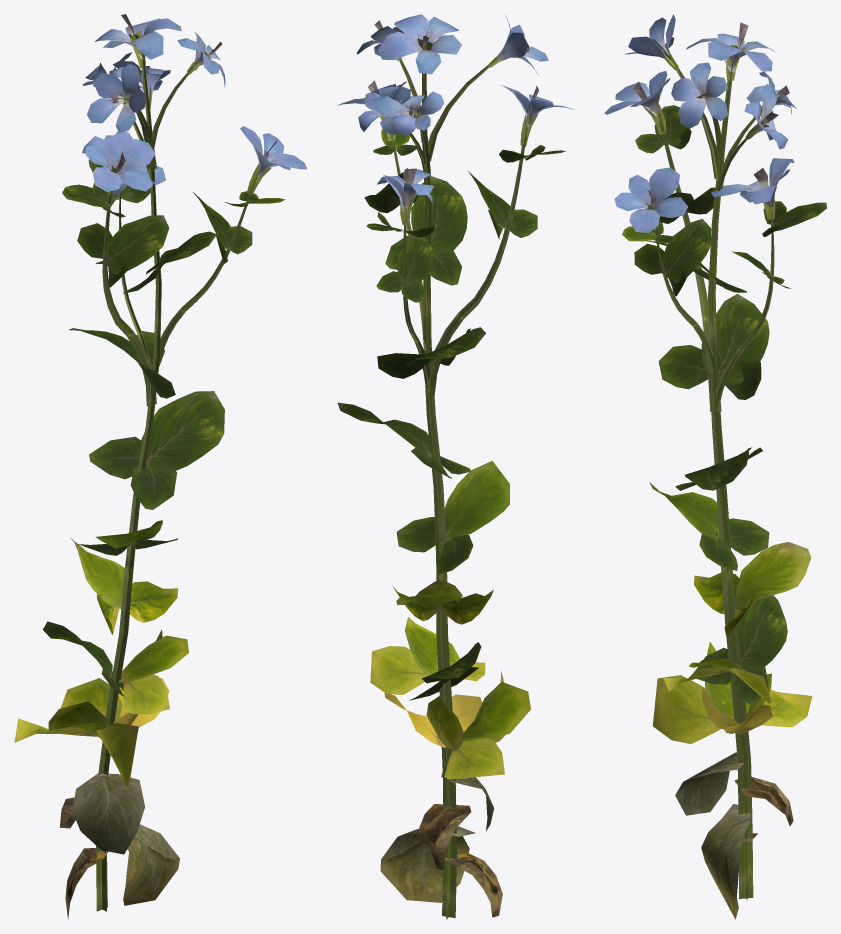
Rendered from Periwinkle_bush_normal_lightblue.glb.
The picture shows the model from 3 angles, left to right: view 1: azimuth 30°, elevation 25°; view 2: azimuth 150°, elevation 25°; view 3: azimuth 270°, elevation 25°; orthographic projection.
Visible parts, largest first — view 1: _b868_Var1_LOD1; view 2: _b868_Var1_LOD1; view 3: _b868_Var1_LOD1.
Boxes of the visible parts, bbox=[...] form: _b868_Var1_LOD1: bbox=[14, 14, 307, 919]; _b868_Var1_LOD1: bbox=[337, 14, 574, 919]; _b868_Var1_LOD1: bbox=[604, 14, 826, 919].
Bounding box in the file's own units: 0.7589 × 2.81 × 0.6398.
1 material, 1 textured.
